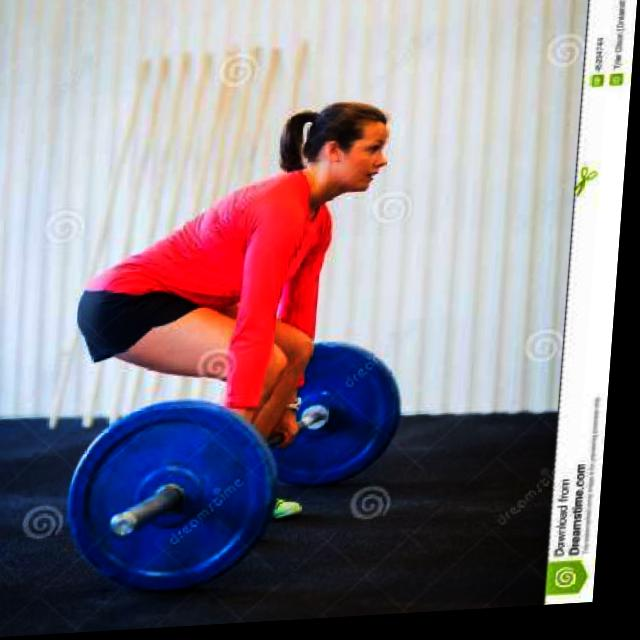barbell: (69, 399, 298, 610)
